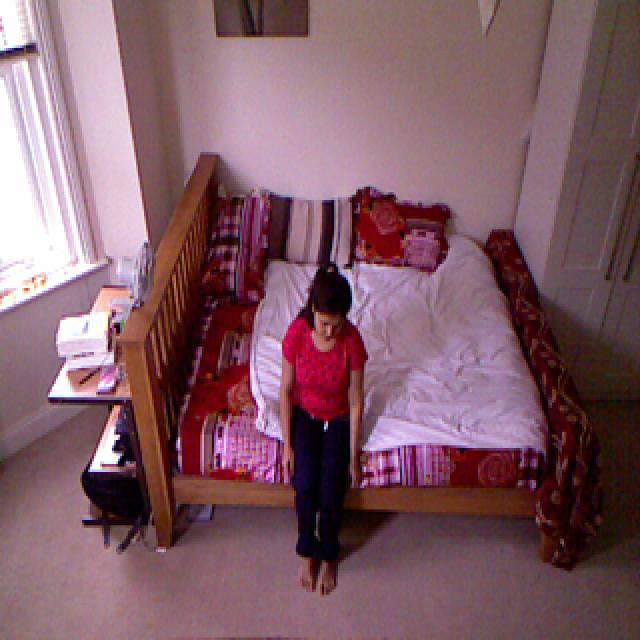sitting: (276, 267, 362, 594)
